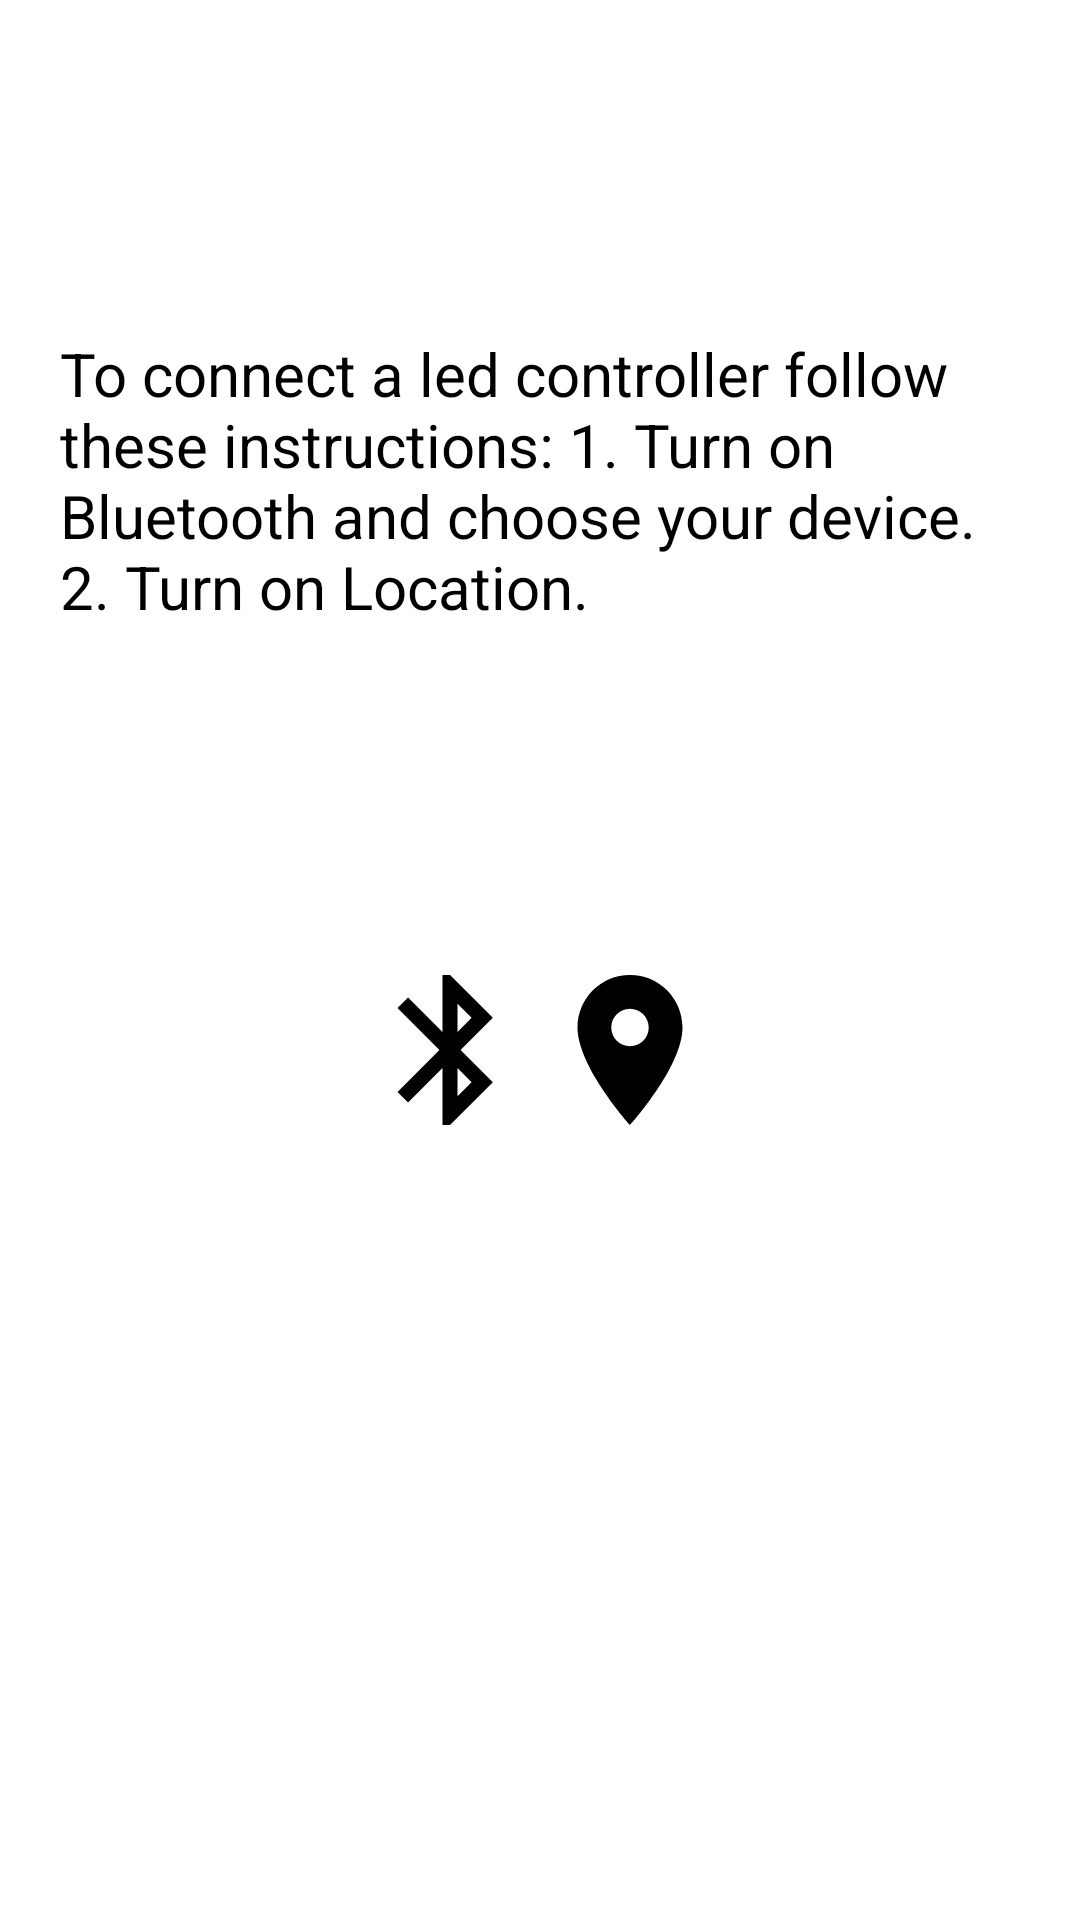

Locate icon controls on the screen. Image size 1080 x 1920, boxes as box(x1, y1, x2, y2).
location on: box(577, 975, 683, 1125)
